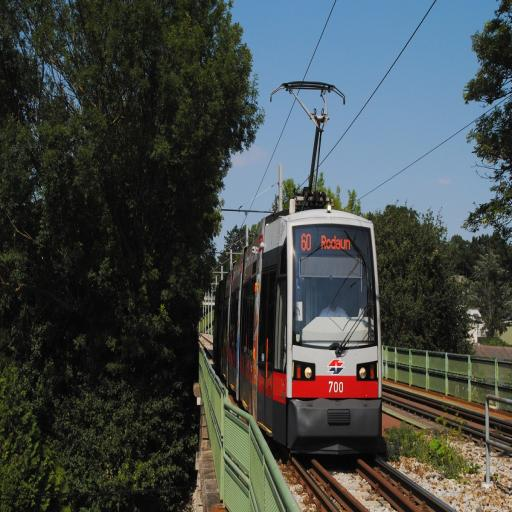ULF: (218, 204, 384, 452)
